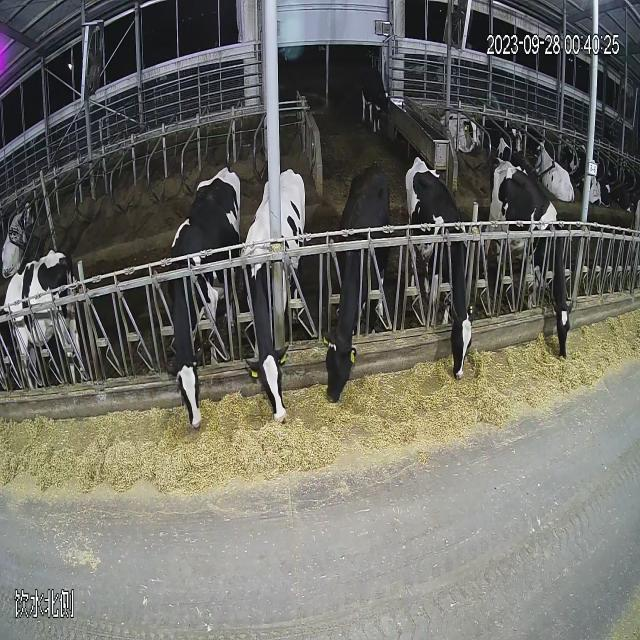feeding: (474, 148, 588, 396), (156, 154, 246, 460), (230, 145, 311, 441), (316, 146, 398, 426), (403, 148, 488, 417)
lying down: (0, 184, 42, 288), (435, 107, 487, 179), (526, 136, 581, 204)
standing: (0, 242, 99, 403), (352, 41, 397, 140)
